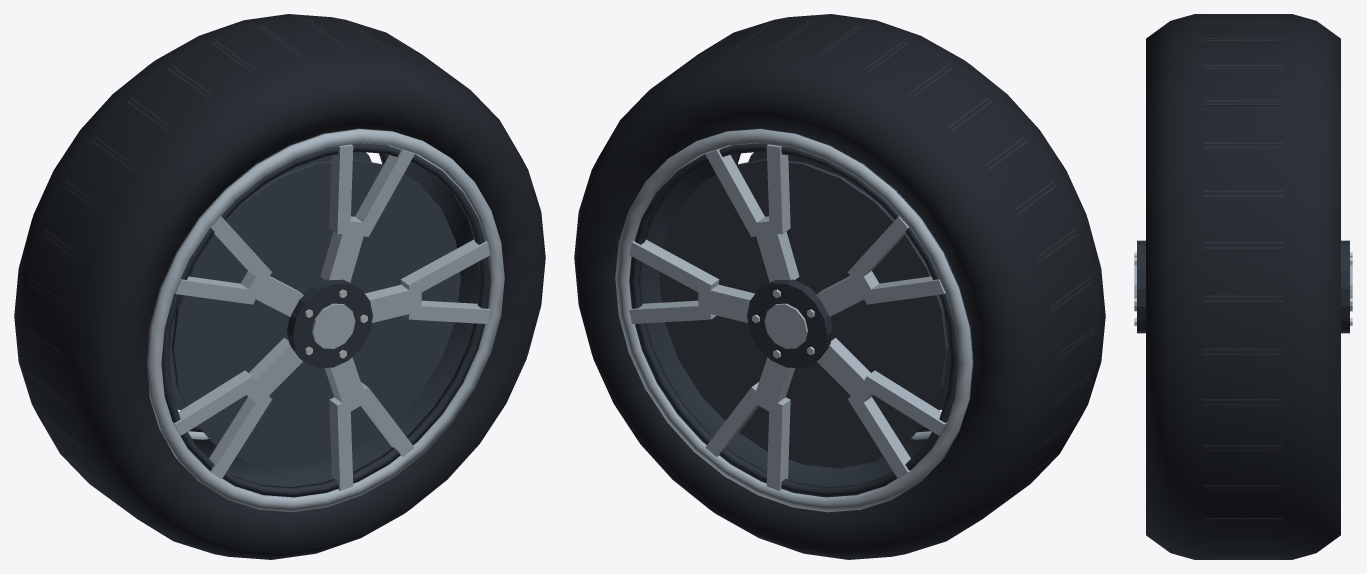
File: split.glb
3 renders of one model, left to right at view 1: azimuth 30°, elevation 25°; view 2: azimuth 150°, elevation 25°; view 3: azimuth 270°, elevation 25°, orthographic.
Visible parts, largest first — view 1: wheel; view 2: wheel; view 3: wheel.
Boxes of the visible parts, x1,y1,x2,y2 form: wheel: [14, 14, 545, 559]; wheel: [574, 14, 1105, 559]; wheel: [1134, 14, 1352, 559].
Size of the model in its own units: 2 by 2 by 0.8.
